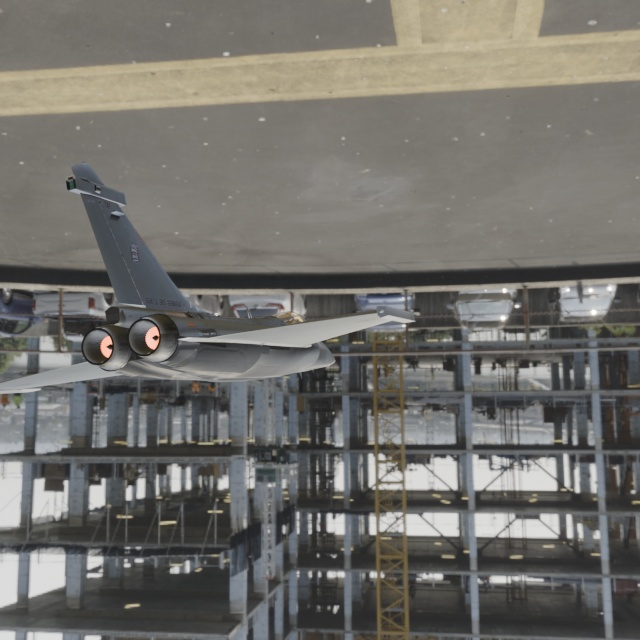dassault_rafale: (0, 88, 478, 422)
